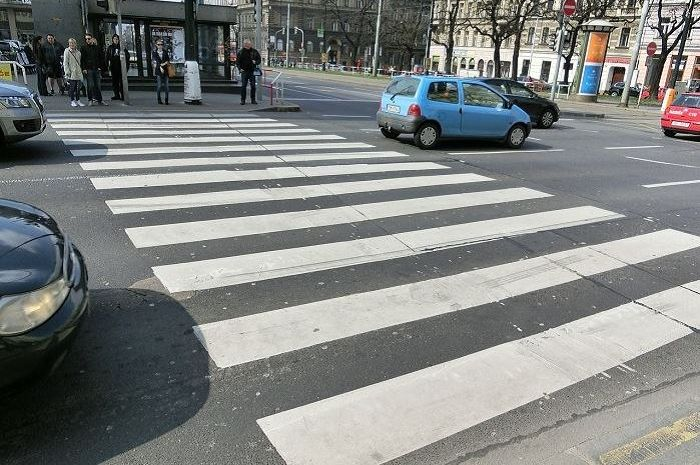zebracross: (103, 144, 643, 460)
